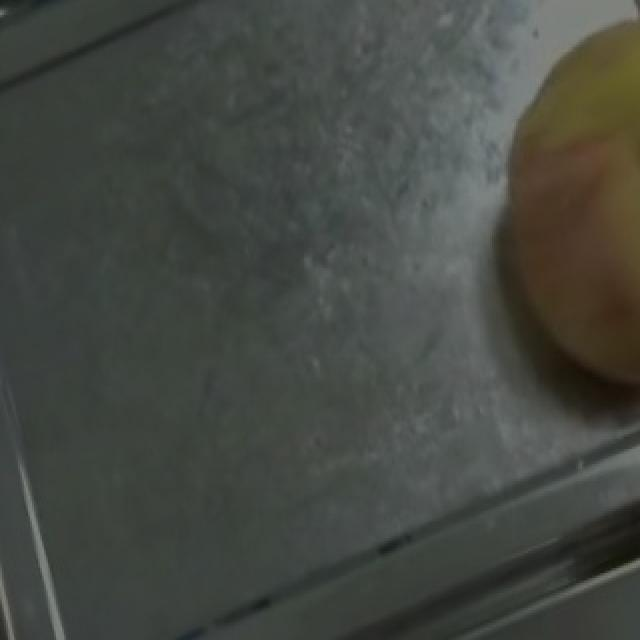Fruit: (456, 0, 640, 295)
